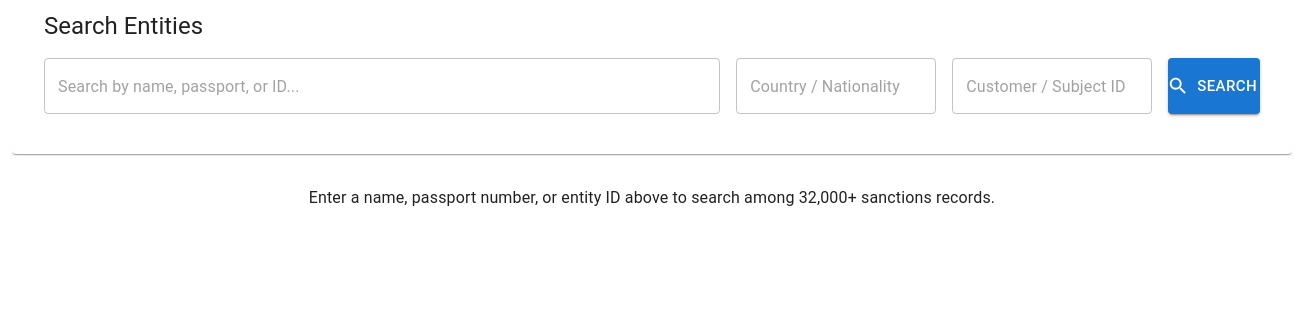
Test: SearchTab › renders score breakdown tooltip details when hovered (issue #277)
Type "putin" into the field with placeholder "Search by name, passport, or ID...". click: [382, 86]
box: x1=44 y1=58 x2=720 y2=114
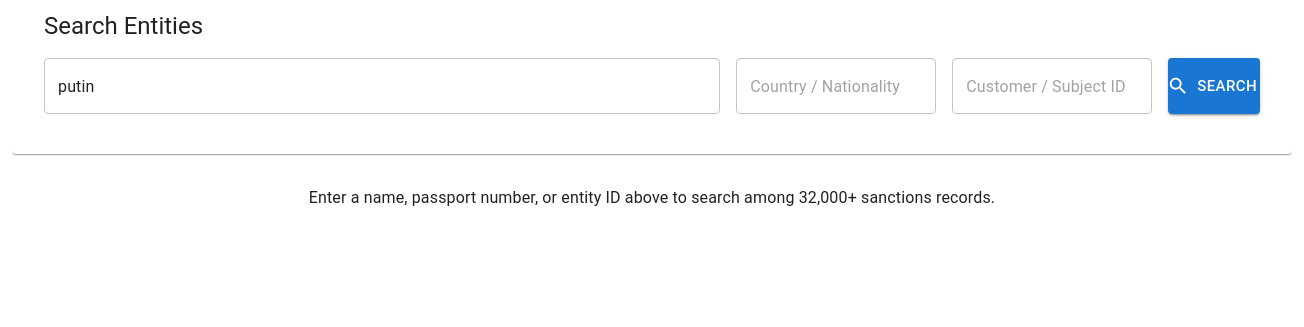
Click the button "Search". click: [1214, 86]
box: x1=1168 y1=58 x2=1260 y2=114
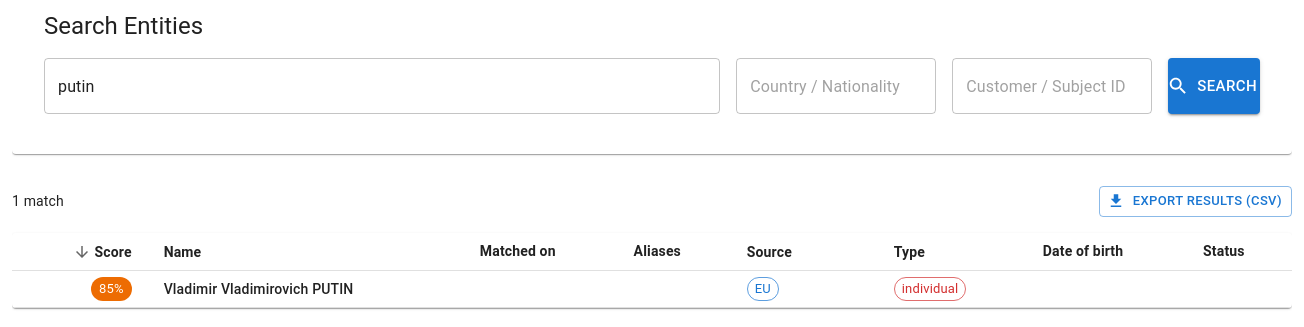
Expected: the text "85%" is shown
Hover over the text "85%" at [111, 289], box x1=99 y1=281 x2=124 y2=296
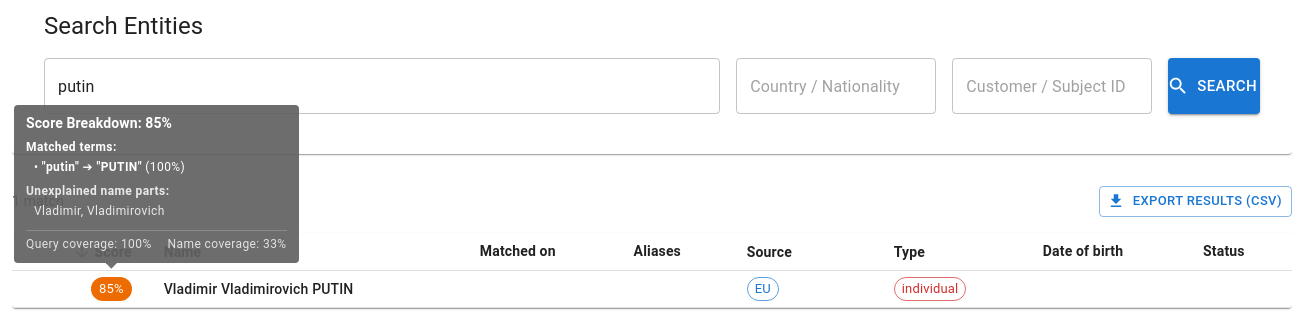
Expected: the heading "Score Breakdown: 85%" is shown, x1=26 y1=112 x2=172 y2=134
Expected: the text "Query coverage: 100%" is shown, x1=26 y1=235 x2=152 y2=255
Expected: the text "Name coverage: 33%" is shown, x1=168 y1=235 x2=286 y2=255
